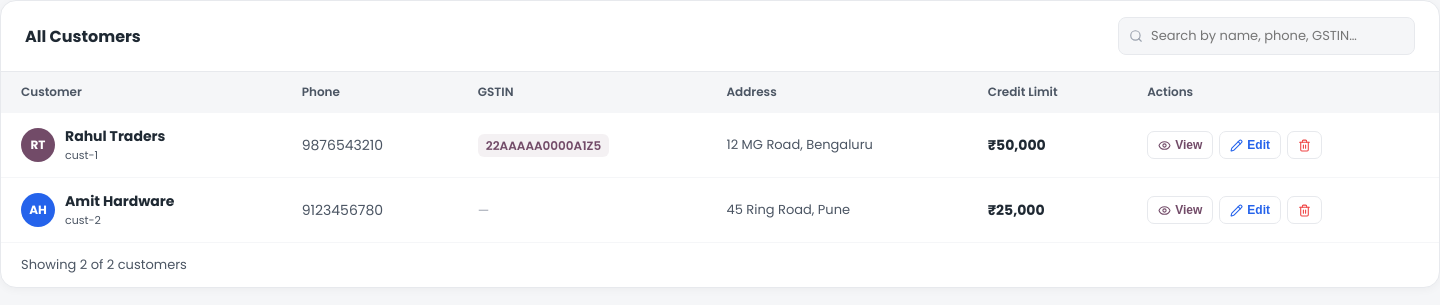
Test: CustomerTable › filters customers by name and GSTIN
Type "amit" into the field with placeholder "Search by name, phone, GSTIN…".
click(1266, 36); type("amit")  # box [1118,17,1415,55]
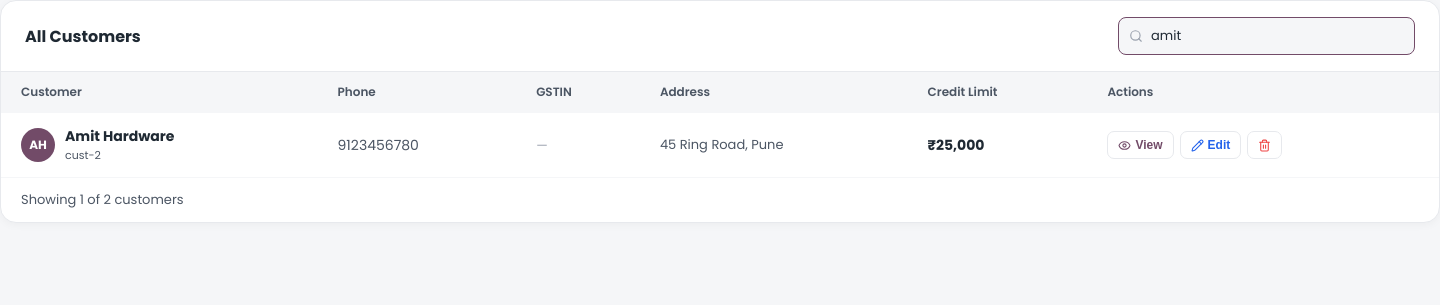
Expected: the text "Amit Hardware" is shown, [65,126,174,147]
Now the text "Rahul Traders" is gone
